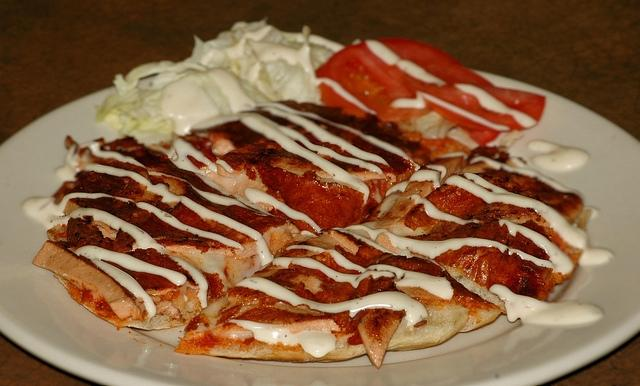lettuce: (260, 60, 324, 104), (186, 72, 233, 115), (227, 39, 259, 80), (286, 40, 336, 64), (126, 60, 176, 83), (142, 90, 161, 118), (116, 108, 147, 124), (243, 16, 268, 33)
tomato: (316, 38, 460, 120), (424, 84, 545, 130)
